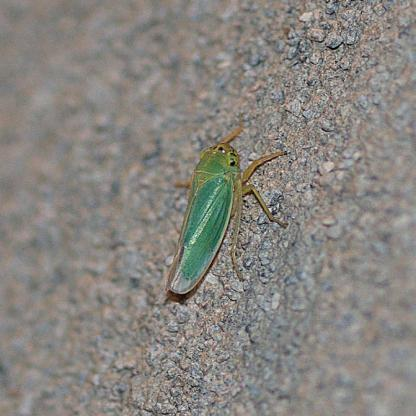Green-Leafhopper: (150, 109, 285, 311)
